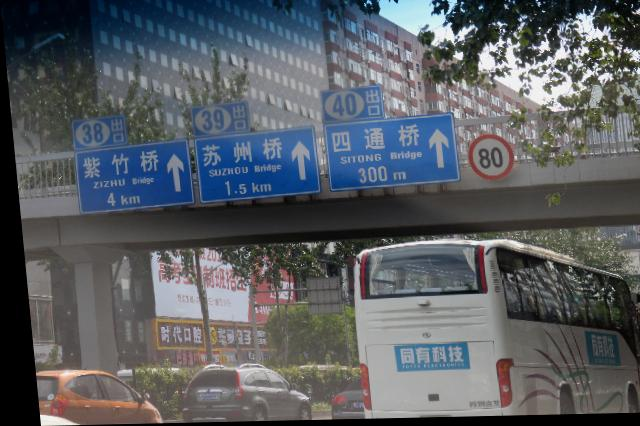limit80: (464, 135, 513, 182)
